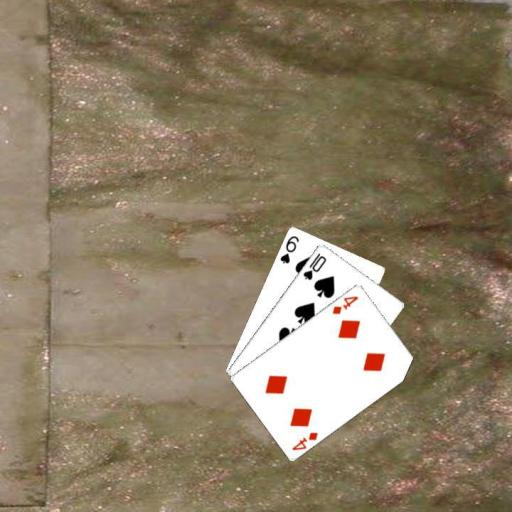10S: (299, 250, 328, 282)
4D: (329, 292, 360, 316), (289, 429, 319, 452)
6S: (277, 233, 300, 265)
